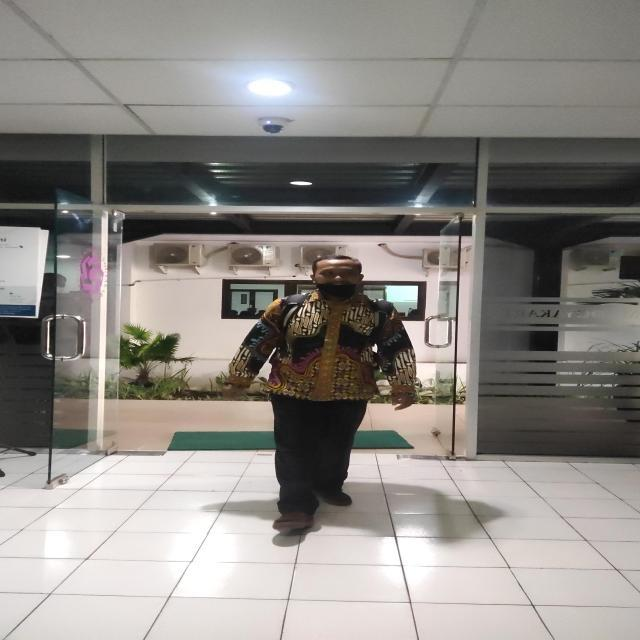hairnet: (304, 254, 364, 298)
